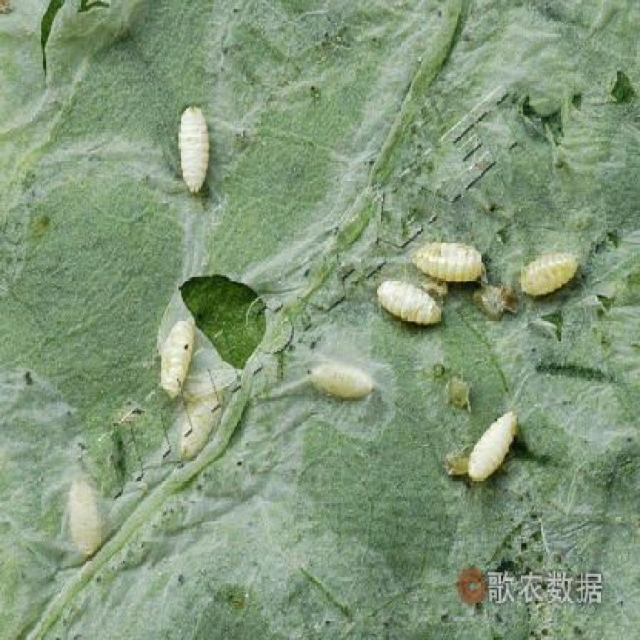whorl-maggot: (380, 266, 448, 337), (464, 403, 522, 483), (515, 243, 588, 305), (171, 100, 217, 192), (412, 237, 486, 289), (308, 356, 382, 406), (64, 474, 104, 554), (158, 310, 196, 392)
